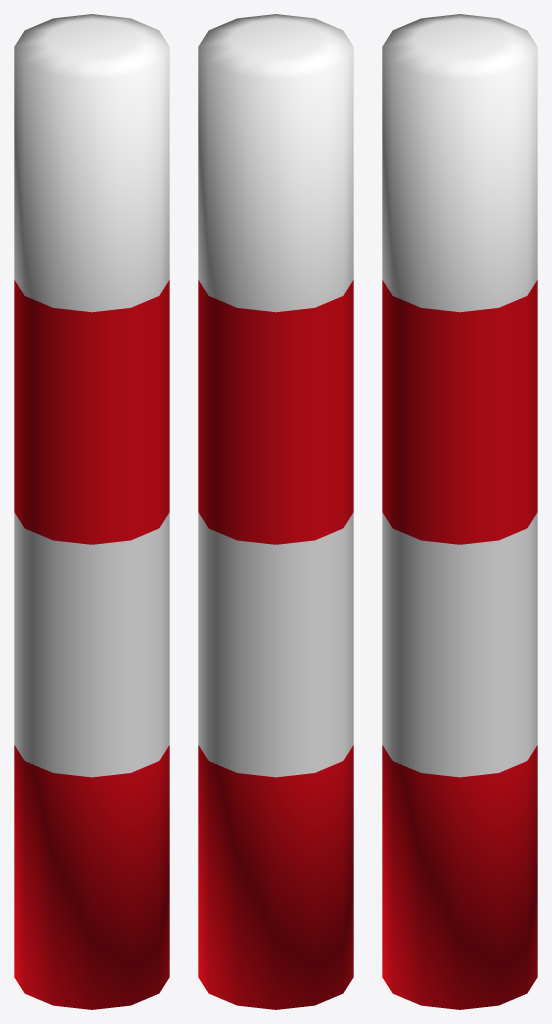
Rendered from bollard.glb.
3 views of the same model, side by side, from view 1: azimuth 30°, elevation 25°; view 2: azimuth 150°, elevation 25°; view 3: azimuth 270°, elevation 25° (orthographic).
Visible parts, largest first — view 1: Cylinder; view 2: Cylinder; view 3: Cylinder.
Boxes of the visible parts, <box> form: Cylinder: <box>14,14,169,1009</box>; Cylinder: <box>198,14,353,1009</box>; Cylinder: <box>382,14,537,1009</box>.
Size of the model in its own units: 0.1145 by 0.7625 by 0.1145.
